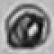correct: (4, 2, 52, 51)
